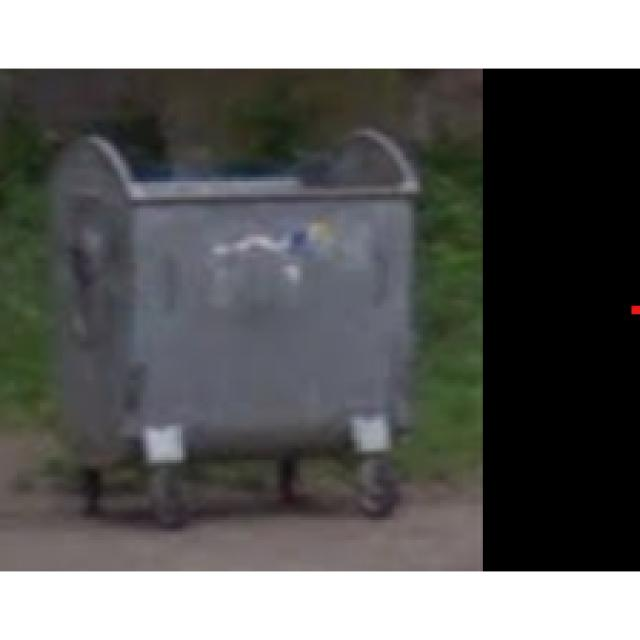general wastetrash bin: (39, 112, 428, 553)
